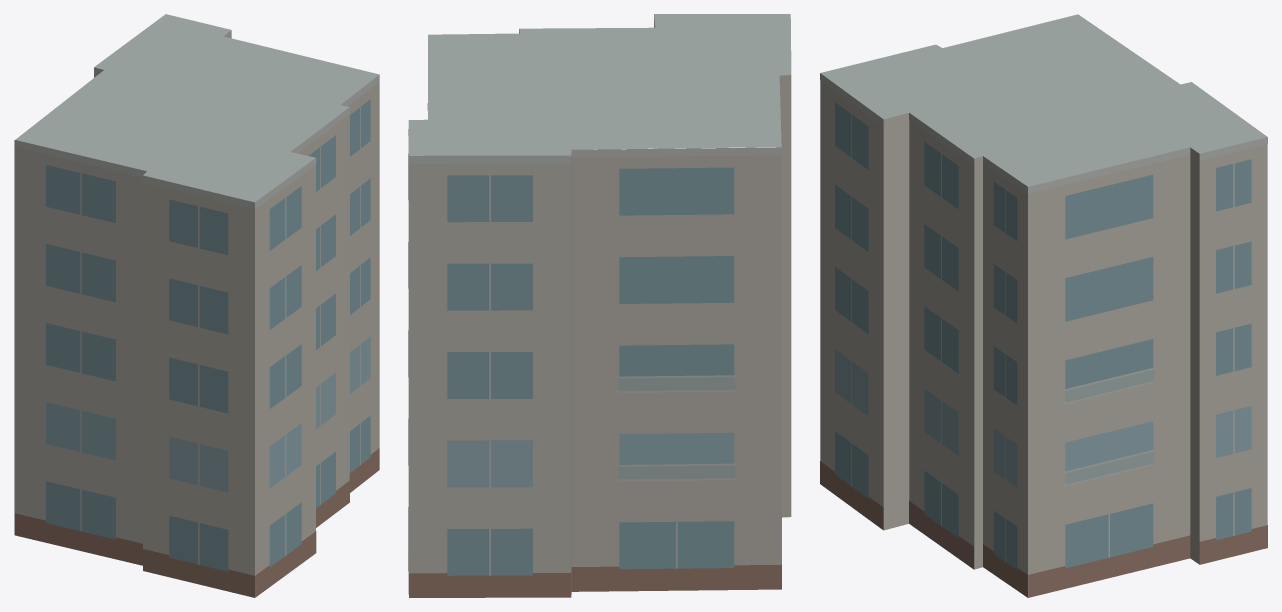
The model's file is survey-upis-32982469.glb.
3 views of the same model, side by side, from view 1: azimuth 30°, elevation 25°; view 2: azimuth 150°, elevation 25°; view 3: azimuth 270°, elevation 25° (orthographic). The views are drawn at different scales.
Parts seen in each view (by area): view 1: survey-upis-32982469.tmp; view 2: survey-upis-32982469.tmp; view 3: survey-upis-32982469.tmp.
Boxes of the visible parts, <box> form: survey-upis-32982469.tmp: <box>14,14,379,597</box>; survey-upis-32982469.tmp: <box>408,14,791,597</box>; survey-upis-32982469.tmp: <box>820,14,1267,597</box>.
Size of the model in its own units: 12.55 by 13.9 by 13.73.
